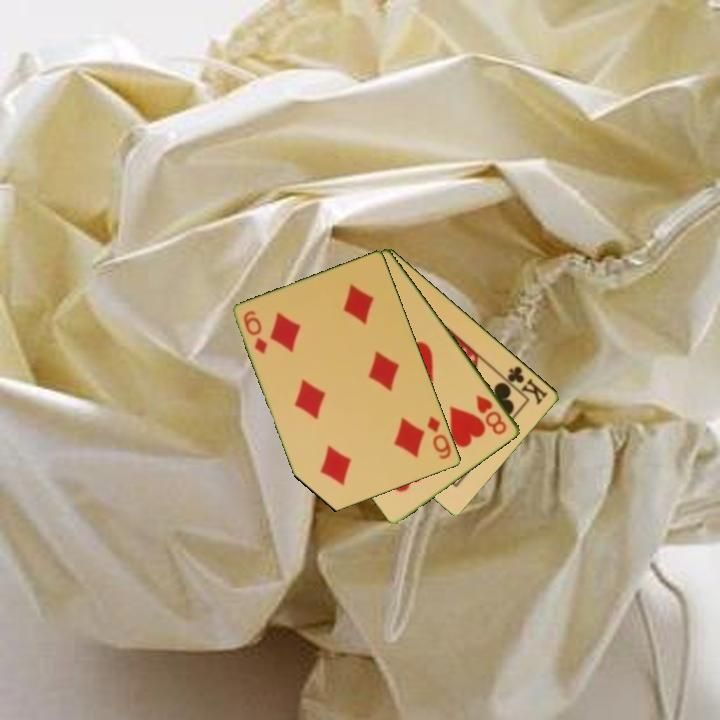6d: (424, 412, 455, 462), (240, 307, 271, 357)
8h: (473, 391, 510, 438)
Kc: (498, 362, 551, 408)
